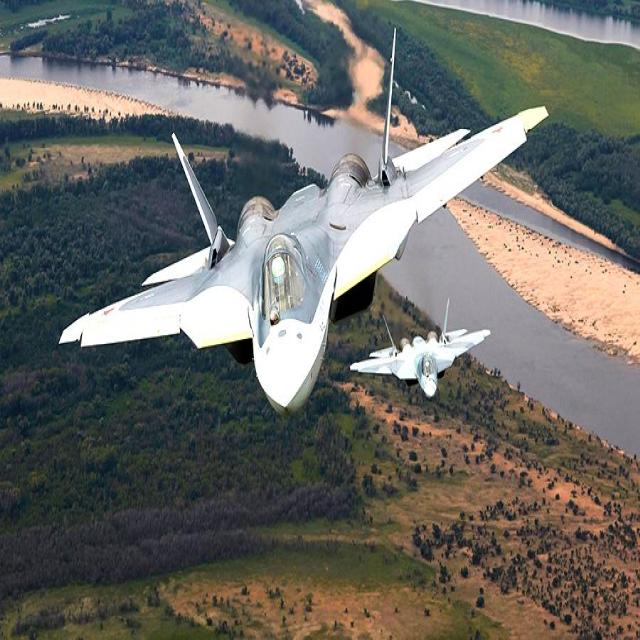MIL_Plane: (58, 26, 549, 418), (349, 297, 492, 401)
